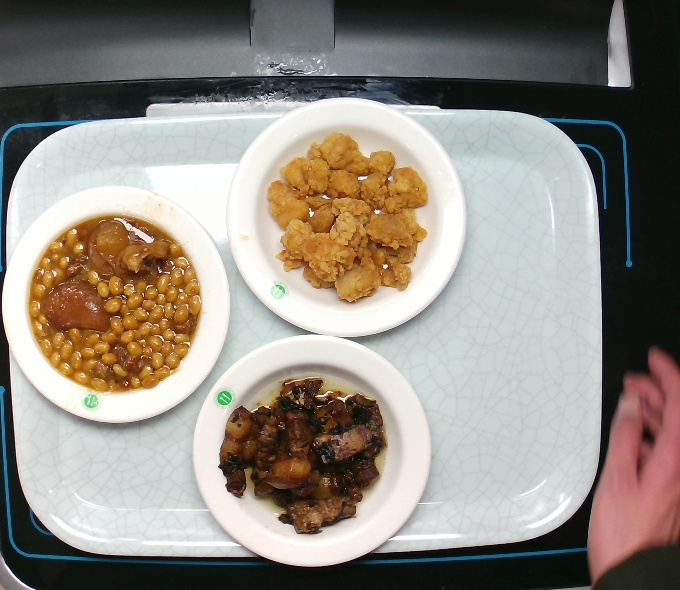wcq-GanCaiRou: (217, 376, 386, 534)
wcq-HuangDouZhuJiao: (27, 213, 203, 394)
wcq-JiMiHua: (266, 129, 431, 303)
